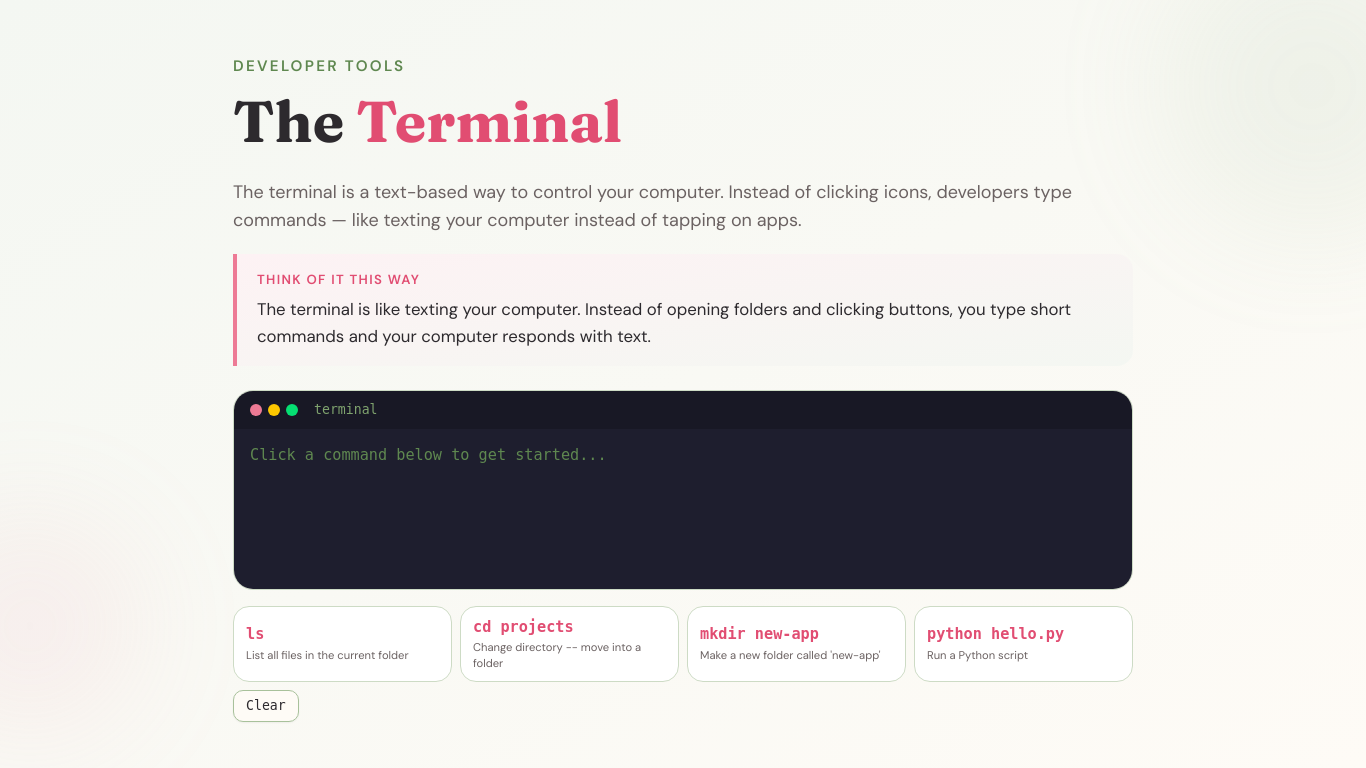
Test: TerminalSlide › clears history when Clear button is clicked
This screenshot has width=1366, height=768.
Click the button "ls List all files in the current folder" at (342, 644), box [233, 606, 452, 682]
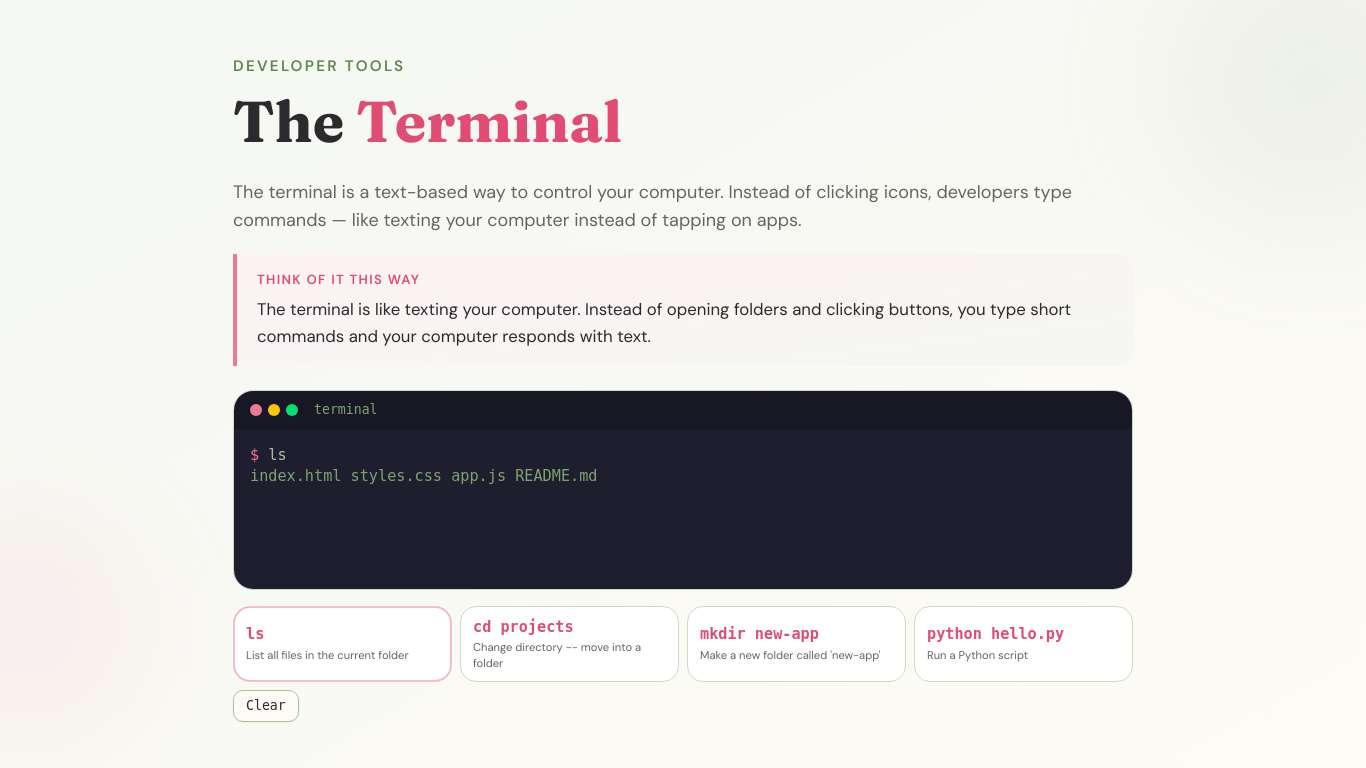
Expected: the element with test id "terminal-history" shows "$ ls", [234, 429, 1132, 589]
Click the button "Clear" at (266, 706), box [233, 690, 299, 722]
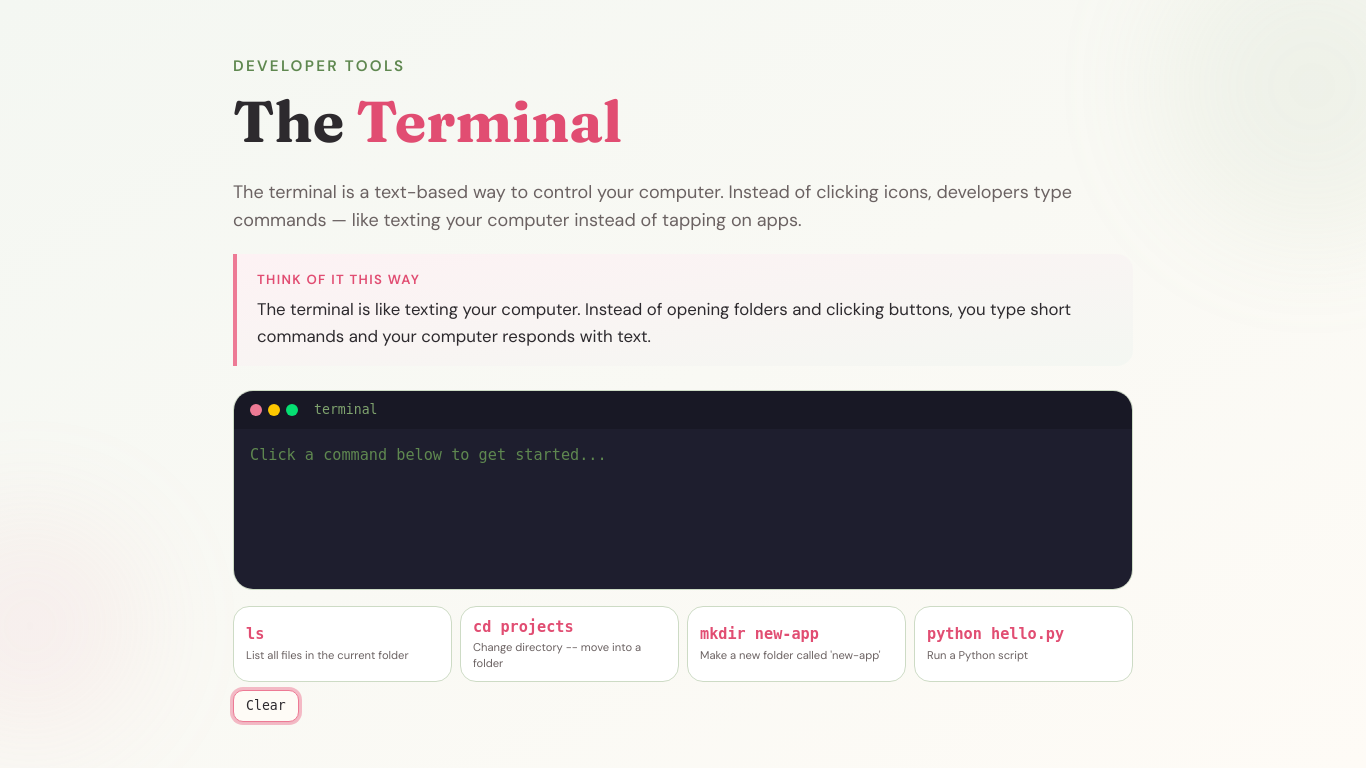
Expected: the element with test id "terminal-history" does not show "$ ls", [234, 429, 1132, 589]
Expected: the element with test id "terminal-history" reads "Click a command below to get started...", [250, 446, 607, 464]
